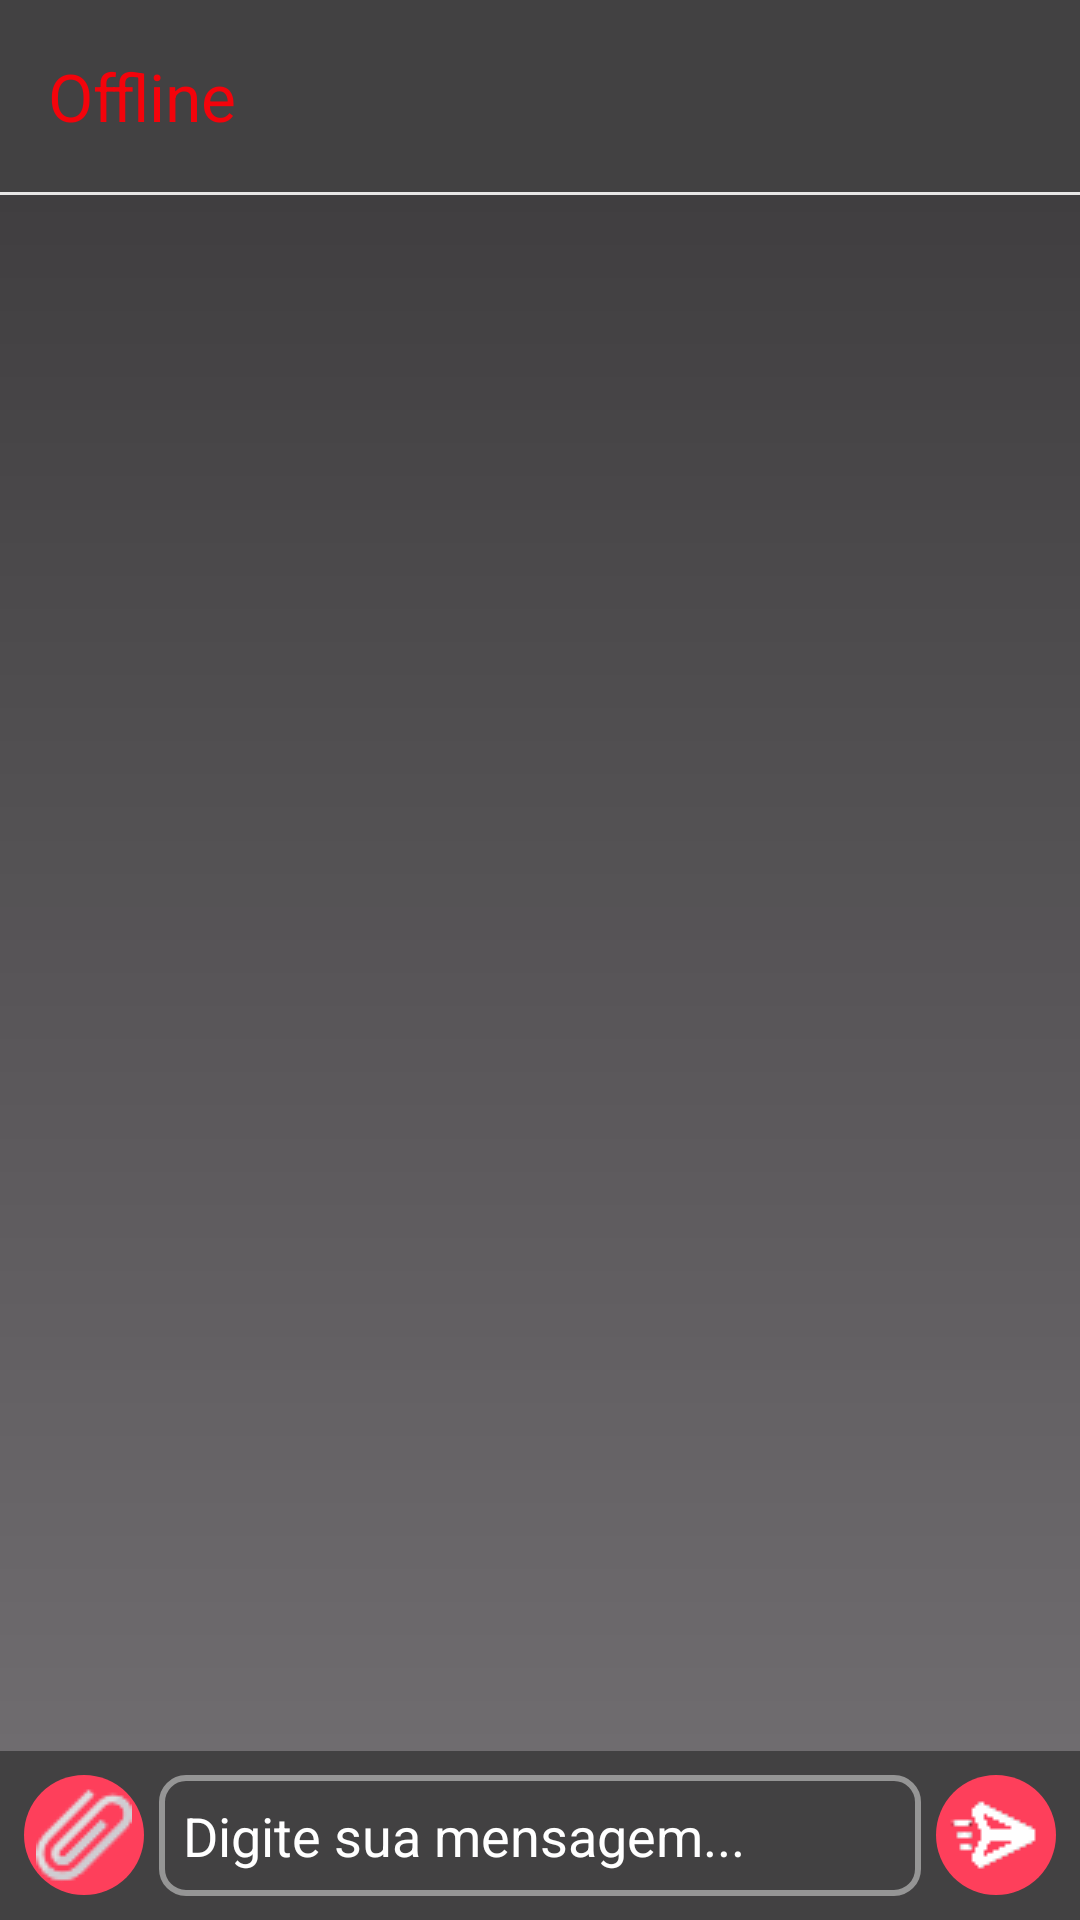

Locate icon controls on the screen. Image size 1080px x 1920px, boxes as (x1, y1, x2, y2).
Anexar: (24, 1775, 144, 1895)
Enviar: (936, 1775, 1056, 1895)
